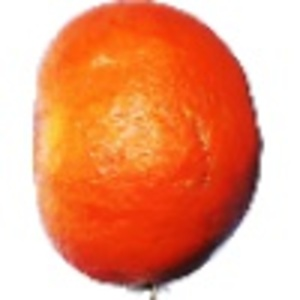tangerina: (29, 1, 264, 300)
